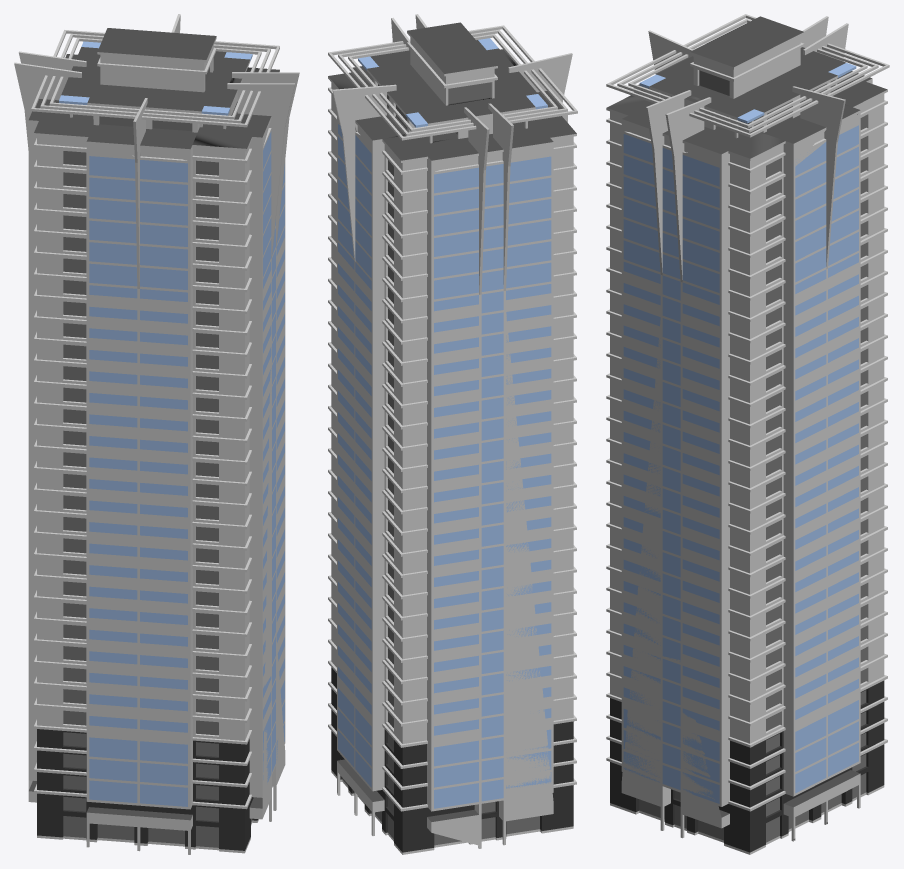
Rendered from Skyscraper3.fbx.
3 renders of one model, left to right at view 1: azimuth 30°, elevation 25°; view 2: azimuth 150°, elevation 25°; view 3: azimuth 270°, elevation 25°, orthographic.
Parts seen in each view (by area): view 1: Mesh1 Model.002; view 2: Mesh1 Model.002; view 3: Mesh1 Model.002.
Boxes of the visible parts, box(x1,y1,x2,y2) form: Mesh1 Model.002: box(14, 14, 299, 854); Mesh1 Model.002: box(328, 14, 577, 854); Mesh1 Model.002: box(606, 14, 889, 854).
Size of the model in its own units: 330 by 957 by 326.
